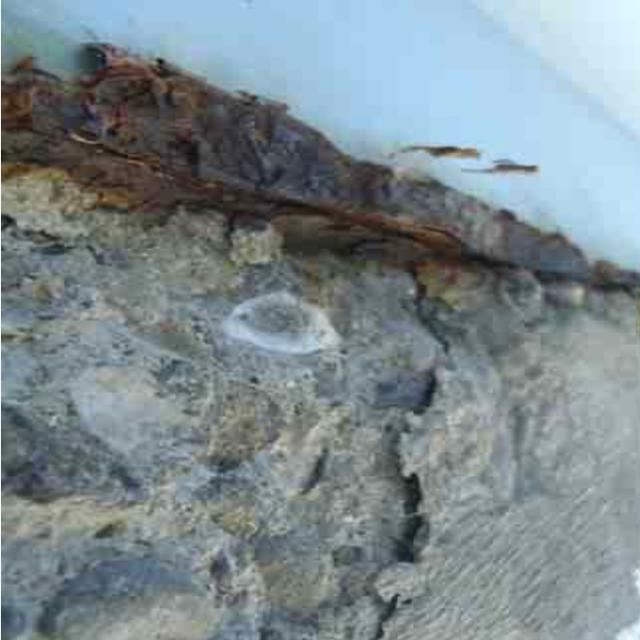corrosion: (24, 40, 543, 283)
spalling: (22, 318, 612, 640)
